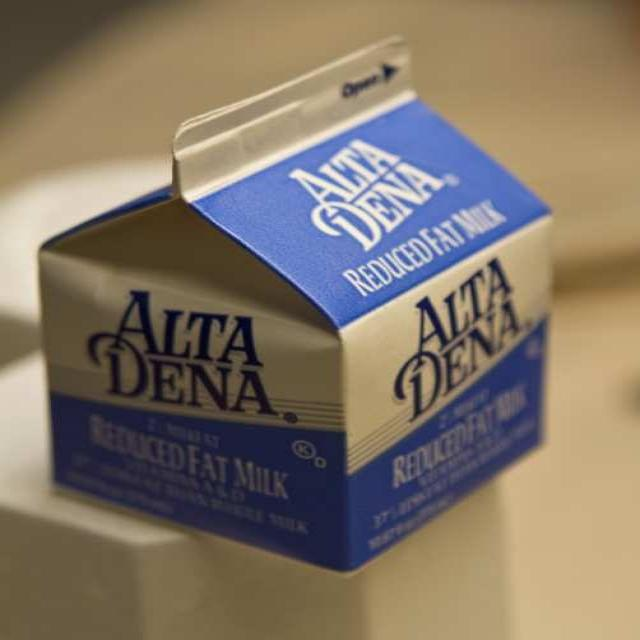cardboard: (37, 36, 553, 572)
